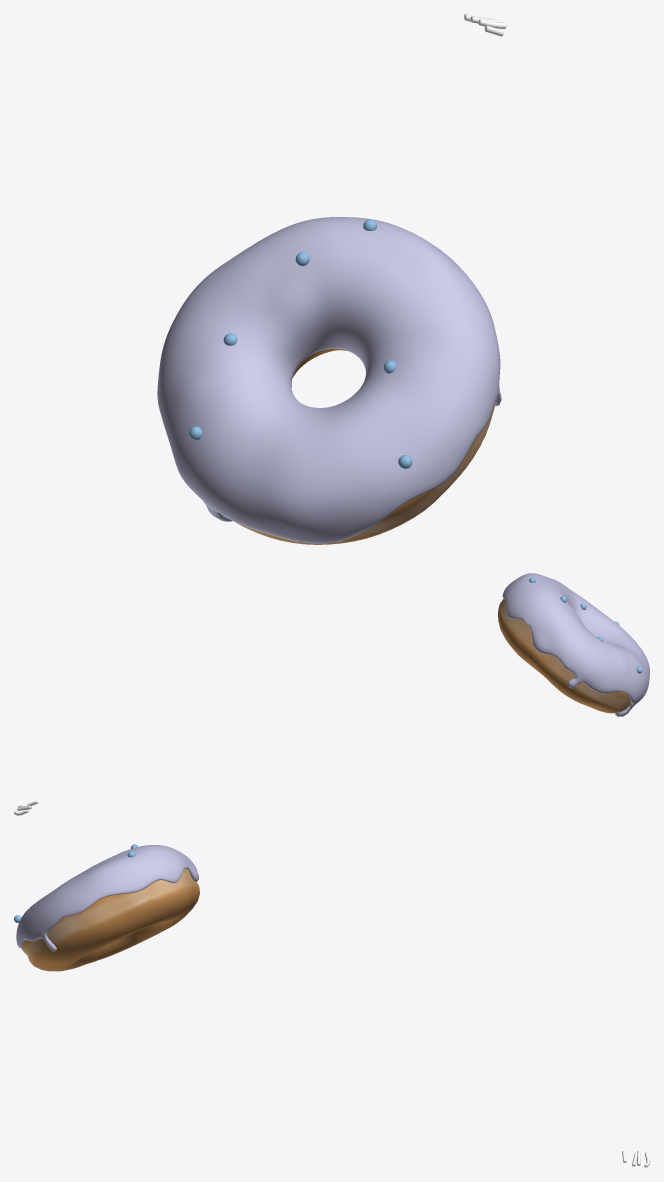
The model's file is donut.glb.
3 renders of one model, top to bottom at view 1: azimuth 30°, elevation 25°; view 2: azimuth 150°, elevation 25°; view 3: azimuth 270°, elevation 25°, orthographic. The views are drawn at different scales.
Visible parts, largest first — view 1: Icing, Donut; view 2: Icing, Donut; view 3: Donut, Icing.
Boxes of the visible parts, left/top/right/bottom form: Icing: left=157, top=217, right=501, bottom=543; Donut: left=231, top=348, right=495, bottom=544; Icing: left=502, top=573, right=649, bottom=716; Donut: left=498, top=598, right=631, bottom=713; Donut: left=21, top=868, right=199, bottom=971; Icing: left=16, top=845, right=198, bottom=951.
Size of the model in its own units: 0.274 by 0.0936 by 0.3428.
4 materials, 1 textured.
